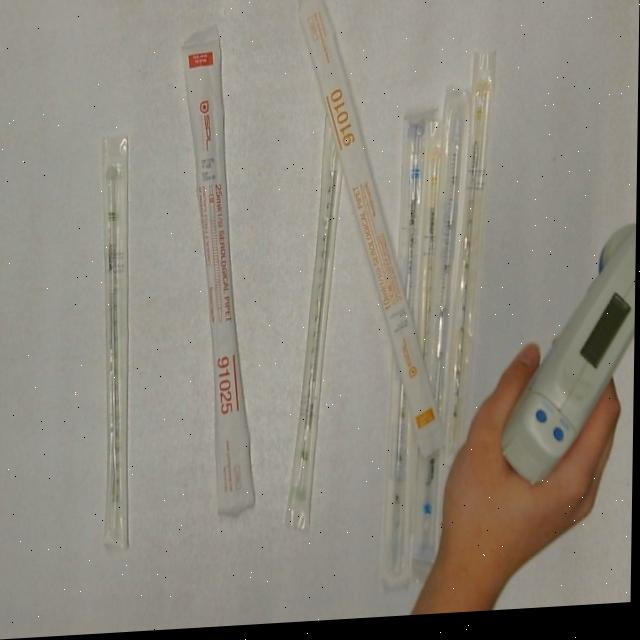Pipette Controller: (492, 233, 637, 505)
Serelogical Pipet 1 mL - Sealed: (445, 54, 503, 462)
Serelogical Pipet 10 mL - Sealed: (289, 0, 454, 476)
Serelogical Pipet 2 mL - Sealed: (285, 102, 351, 542), (89, 128, 142, 556)
Serelogical Pipet 25 mL - Sealed: (171, 21, 268, 526)
Serelogical Pipet 5 mL - Sealed: (416, 91, 476, 574), (379, 109, 432, 596)
